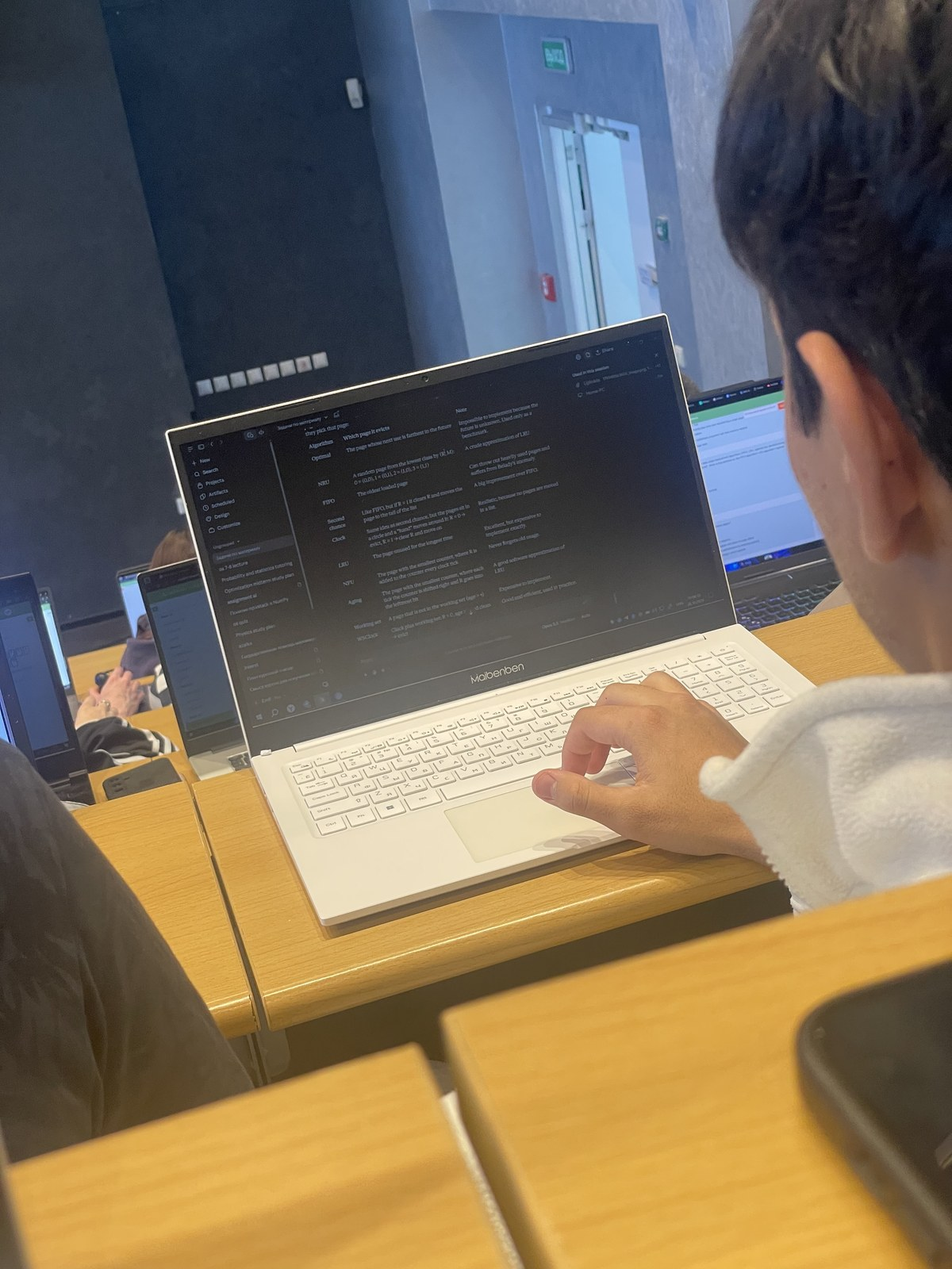cell phone: (797, 952, 952, 1263), (107, 757, 178, 798)
laptop: (166, 312, 841, 930), (651, 375, 853, 627), (139, 554, 264, 781), (0, 569, 98, 813)
